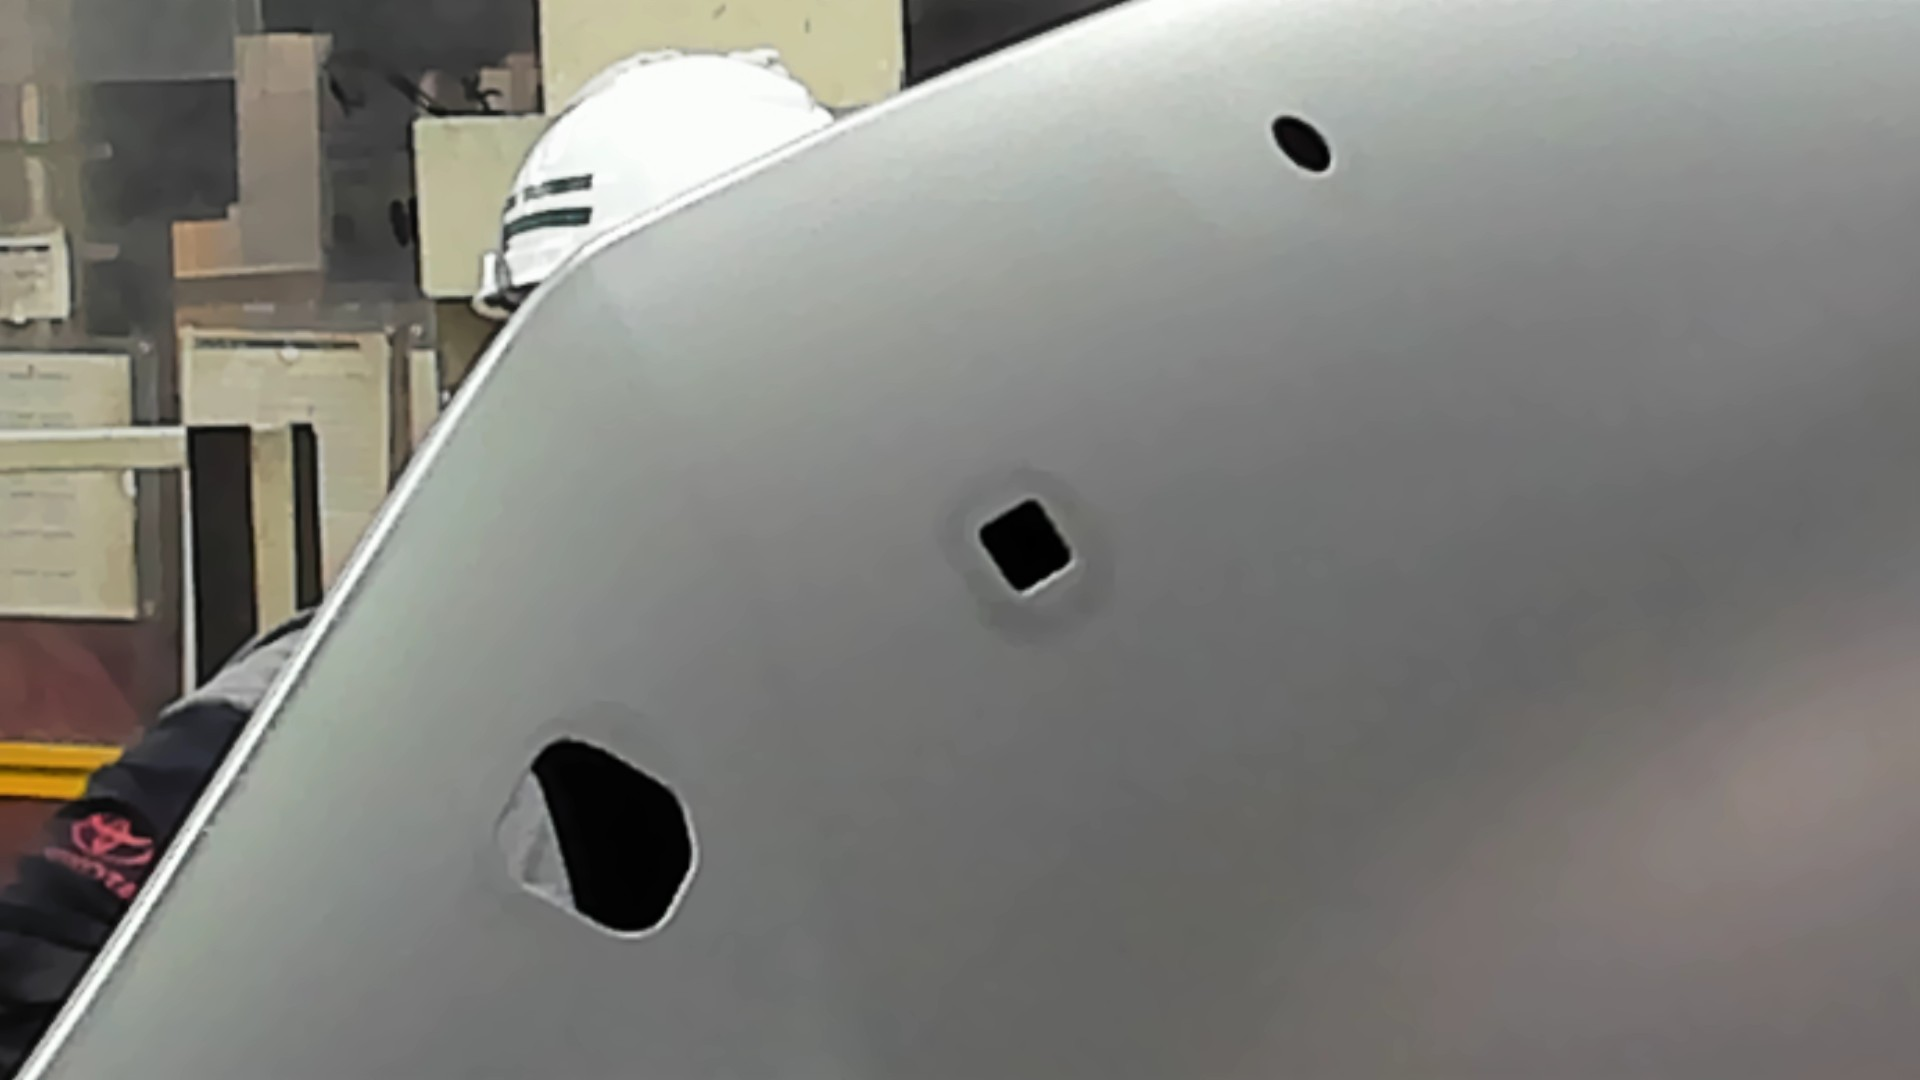capo: (1080, 185, 1920, 1080)
chico: (1269, 109, 1338, 178)
grande: (483, 733, 702, 947)
mediano: (969, 492, 1083, 605)
